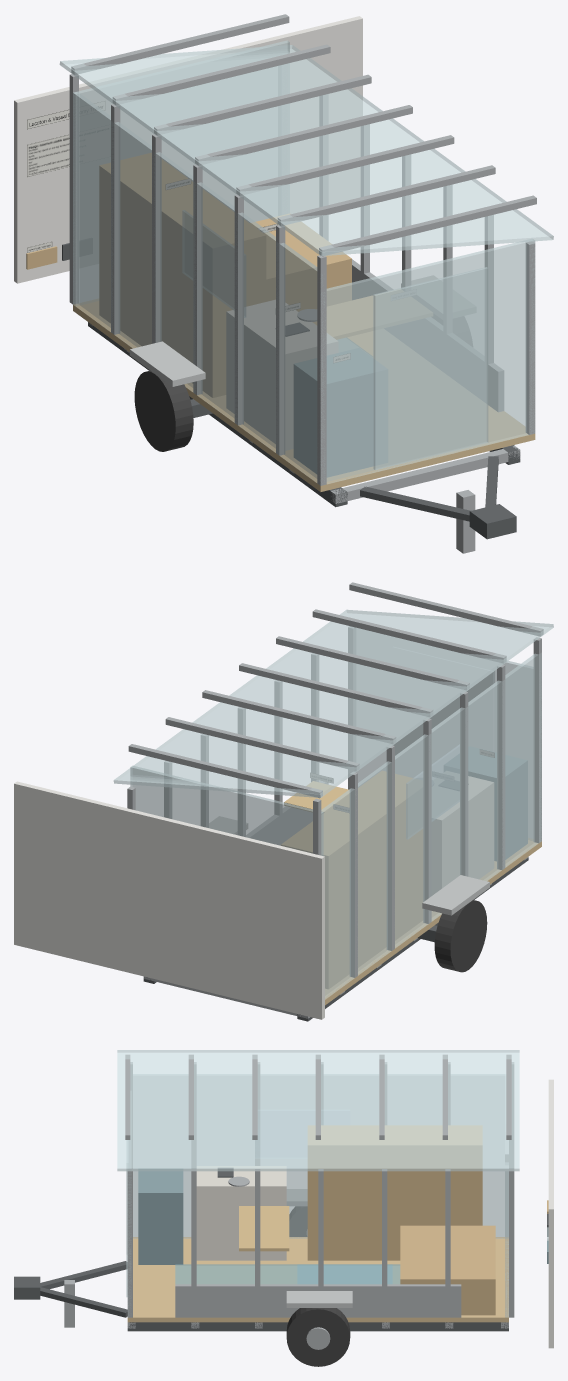
File: lacaton-vassal-economy-trailer.dae
3 views of the same model, one above another, from view 1: azimuth 30°, elevation 25°; view 2: azimuth 150°, elevation 25°; view 3: azimuth 270°, elevation 25° (orthographic). The views are drawn at different scales.
Parts seen in each view (by area): view 1: left translucent polycarbonate wall, one large shed polycarbonate roof, front polycarbonate wall, rear polycarbonate wall, Lacaton & Vassal Economy Trailer label board backing, wide sliding polycarbonate door panel, open shelf wall from unfinished plywood, exposed utility corner, minimal kitchenette block, 6x12 plywood trailer deck.003, daybed platform also storage, left trailer wheel.002 (+30 smaller); view 2: Lacaton & Vassal Economy Trailer label board backing, left translucent polycarbonate wall, one large shed polycarbonate roof, open shelf wall from unfinished plywood, front polycarbonate wall, rear polycarbonate wall, minimal kitchenette block, exposed utility corner, left trailer wheel.002, large stock ventilation window, 6x12 plywood trailer deck.003, cheap galvanized portal frame 24 (+22 smaller); view 3: one large shed polycarbonate roof, left translucent polycarbonate wall, open shelf wall from unfinished plywood, 6x12 plywood trailer deck.003, cutaway open long-side guard rail, daybed platform also storage, minimal kitchenette block, exposed utility corner, central movement path - keep clear.003, right steel frame rail.002, large stock ventilation window, right trailer wheel.002 (+26 smaller).
Part boxes in pixels (x1=…): left translucent polycarbonate wall: x1=73, y1=92, x2=324, y2=485; one large shed polycarbonate roof: x1=59, y1=45, x2=553, y2=256; front polycarbonate wall: x1=320, y1=239, x2=535, y2=484; rear polycarbonate wall: x1=73, y1=40, x2=289, y2=305; Lacaton & Vassal Economy Trailer label board backing: x1=14, y1=16, x2=362, y2=283; wide sliding polycarbonate door panel: x1=373, y1=267, x2=488, y2=470; open shelf wall from unfinished plywood: x1=99, y1=153, x2=265, y2=397; exposed utility corner: x1=294, y1=348, x2=373, y2=477; minimal kitchenette block: x1=226, y1=300, x2=338, y2=450; 6x12 plywood trailer deck.003: x1=73, y1=299, x2=535, y2=491; daybed platform also storage: x1=250, y1=214, x2=351, y2=311; left trailer wheel.002: x1=134, y1=370, x2=193, y2=451; Lacaton & Vassal Economy Trailer label board backing: x1=14, y1=781, x2=324, y2=1019; left translucent polycarbonate wall: x1=321, y1=653, x2=541, y2=999; one large shed polycarbonate roof: x1=113, y1=609, x2=553, y2=797; open shelf wall from unfinished plywood: x1=281, y1=771, x2=422, y2=988; front polycarbonate wall: x1=349, y1=626, x2=541, y2=841; rear polycarbonate wall: x1=130, y1=765, x2=323, y2=855; minimal kitchenette block: x1=432, y1=776, x2=493, y2=895; exposed utility corner: x1=468, y1=746, x2=527, y2=860; left trailer wheel.002: x1=434, y1=900, x2=487, y2=972; large stock ventilation window: x1=406, y1=745, x2=459, y2=838; 6x12 plywood trailer deck.003: x1=325, y1=838, x2=541, y2=1005; cheap galvanized portal frame 24: x1=497, y1=664, x2=505, y2=869; one large shed polycarbonate roof: x1=117, y1=1050, x2=519, y2=1171; left translucent polycarbonate wall: x1=133, y1=1074, x2=508, y2=1238; open shelf wall from unfinished plywood: x1=307, y1=1125, x2=482, y2=1260; 6x12 plywood trailer deck.003: x1=127, y1=1237, x2=508, y2=1322; cutaway open long-side guard rail: x1=175, y1=1284, x2=461, y2=1317; daybed platform also storage: x1=400, y1=1225, x2=495, y2=1315; minimal kitchenette block: x1=196, y1=1166, x2=286, y2=1260; exposed utility corner: x1=138, y1=1168, x2=183, y2=1264; central movement path - keep clear.003: x1=175, y1=1264, x2=400, y2=1284; right steel frame rail.002: x1=127, y1=1322, x2=508, y2=1331; large stock ventilation window: x1=255, y1=1110, x2=349, y2=1157; right trailer wheel.002: x1=286, y1=1308, x2=350, y2=1366.
Size of the model in its own units: 3.07 by 5.18 by 2.46.
22 materials, 9 textured.
